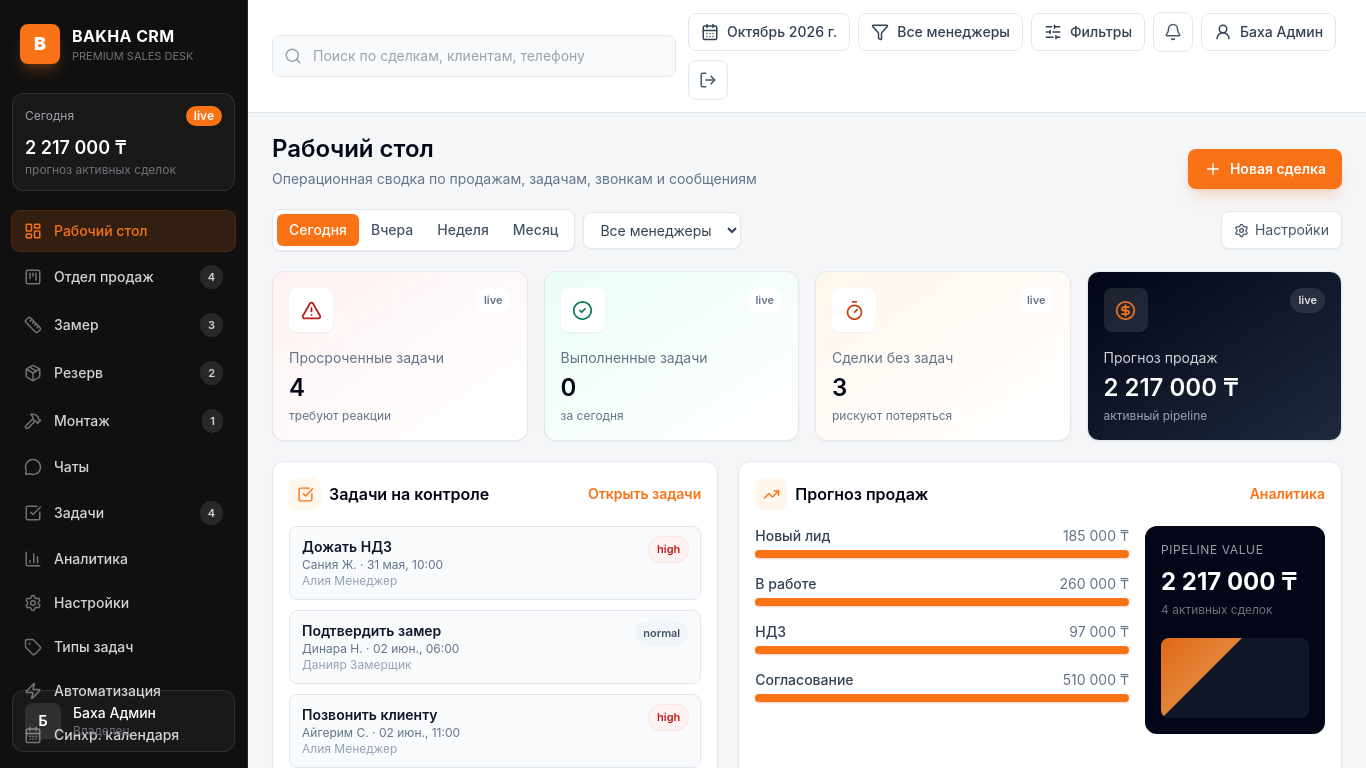
Test: Bakha CRM smoke › notification bell shows unread count when API returns unreadCount
// Open notification panel
Step 1. Click the button named "Уведомления" → x=1173, y=32, box [1153, 12, 1193, 52]
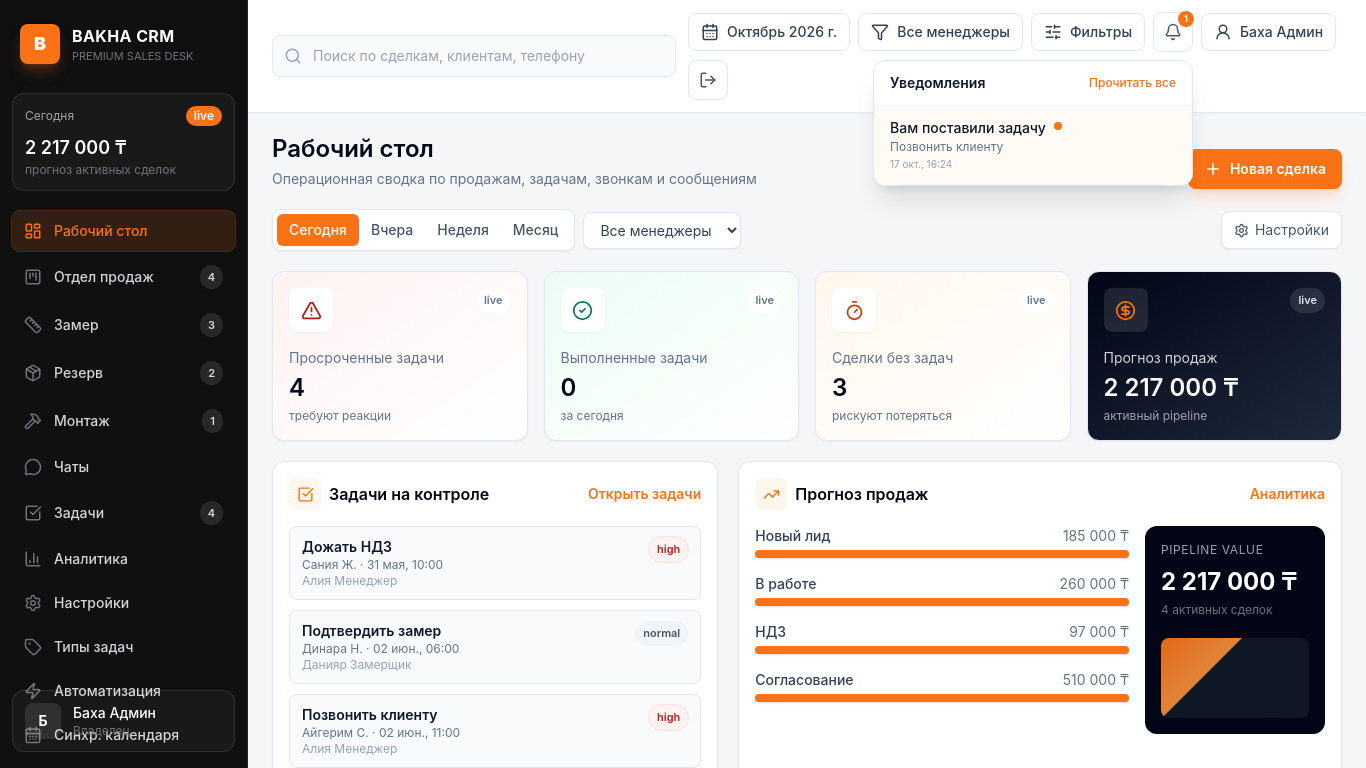
Expected: the text "Вам поставили задачу" is shown, [890, 118, 1046, 137]
Expected: the button "Прочитать все" is shown, [1089, 75, 1176, 91]
